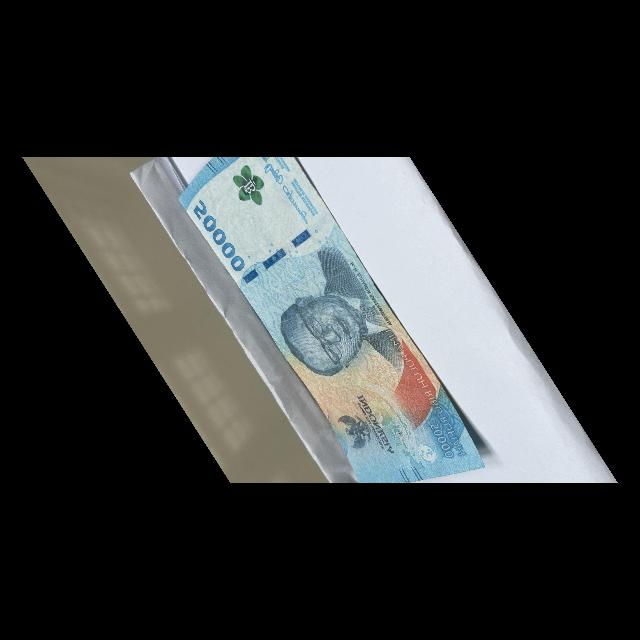Palsu-50k: (150, 147, 495, 542)
Tinta-Palsu-50k: (223, 160, 278, 215)
